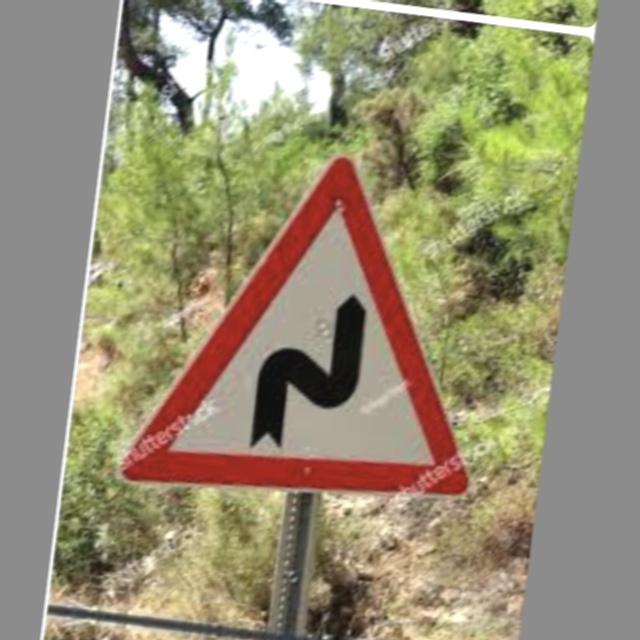Right_Reverse_Bend: (119, 131, 507, 502)
